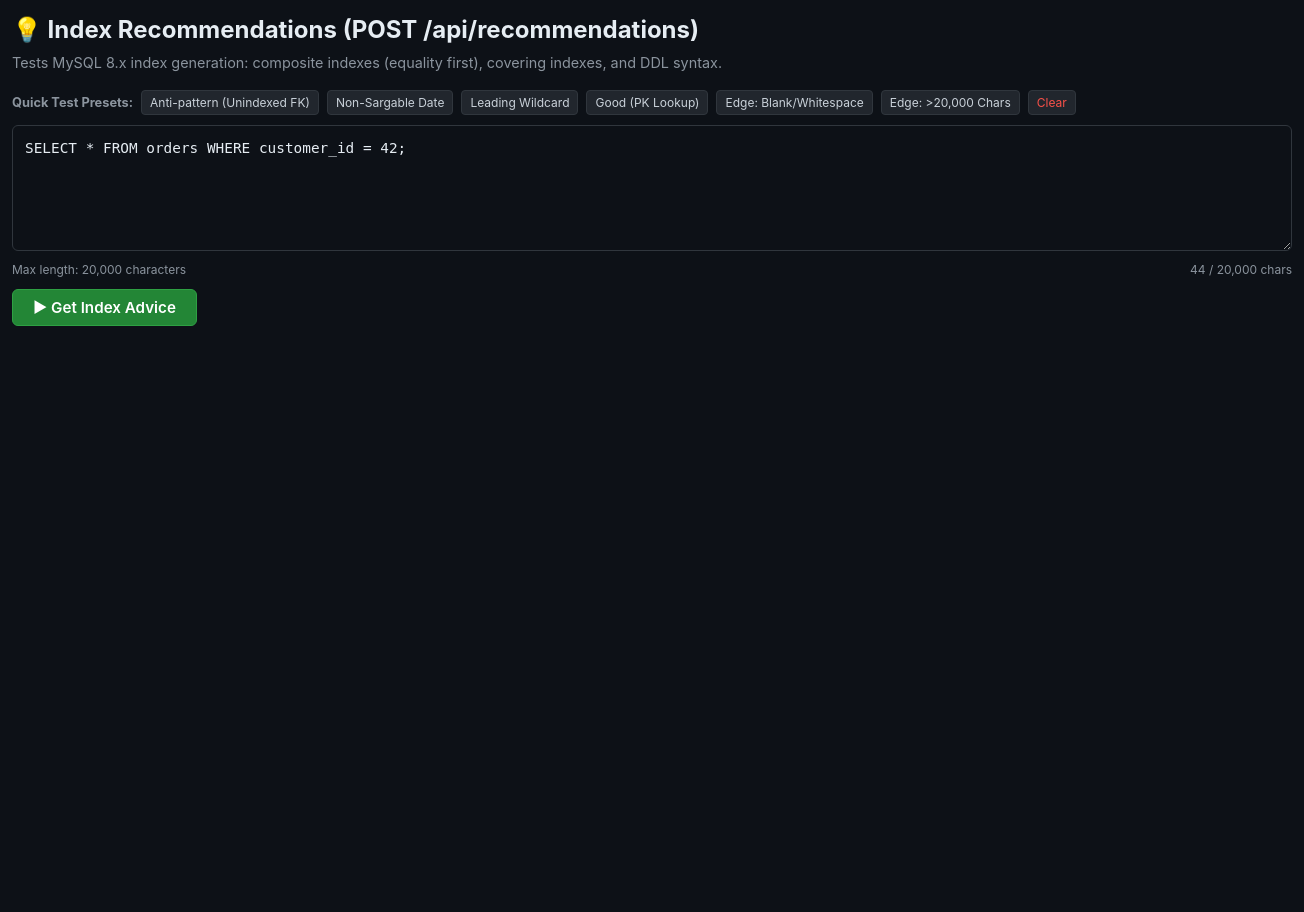
RecommendationsPage Component › renders generated recommendations with DDL and trade-offs
Click the button "▶ Get Index Advice" at (104, 308), box [12,289,197,326]
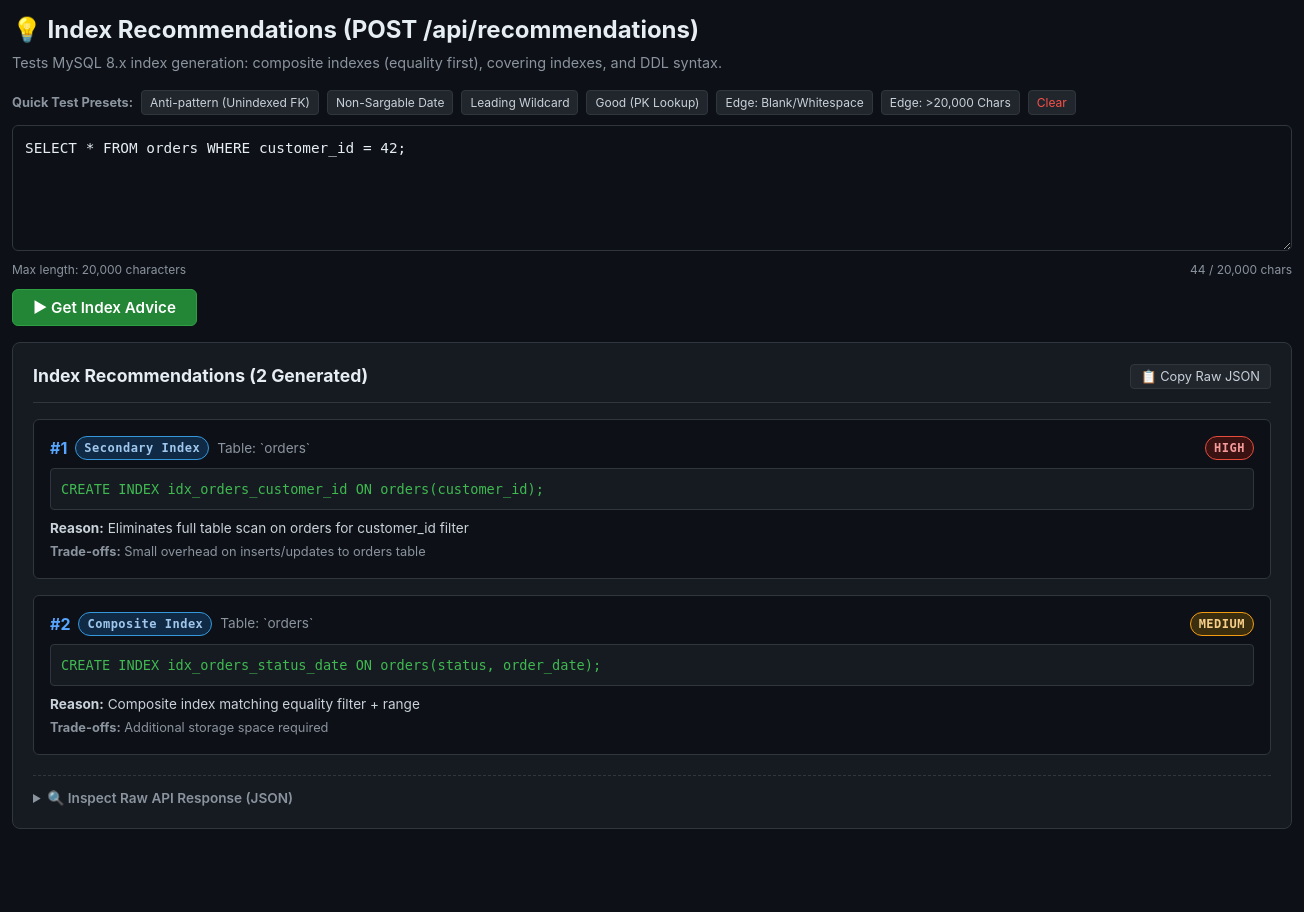
Result: the heading "Index Recommendations (2 Generated)" is shown at [33,363,368,390]
Result: the text "CREATE INDEX idx_orders_customer_id ON orders(customer_id);" is shown at [50,468,1254,510]
Result: the text "Eliminates full table scan on orders" is shown at [108,520,469,536]
